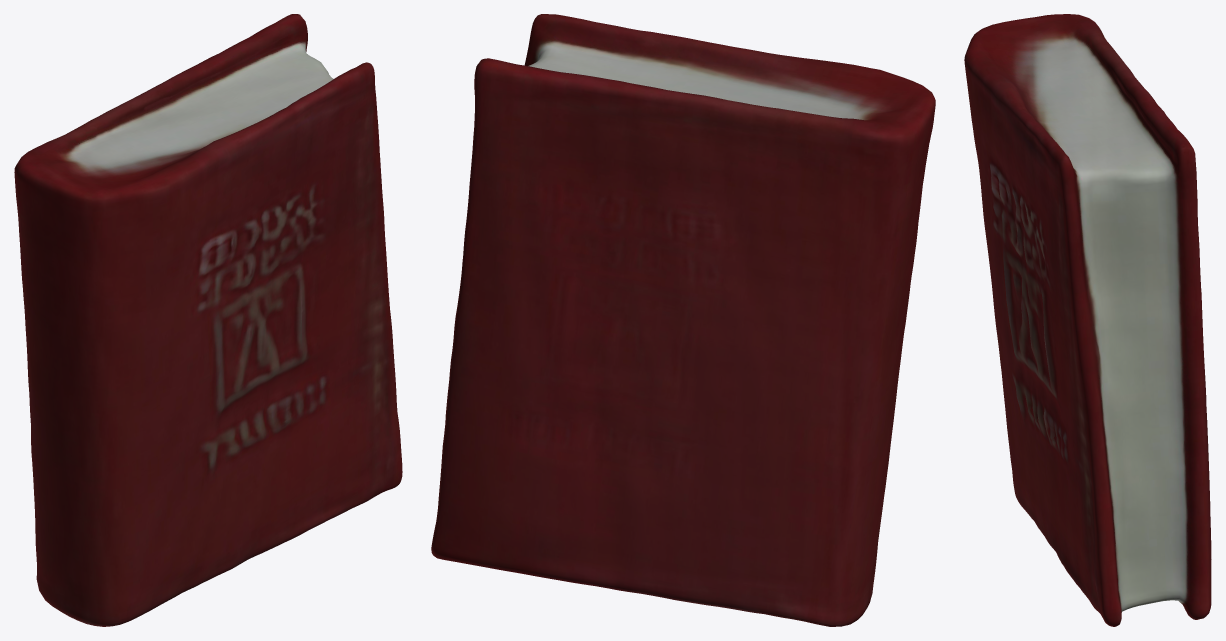
File: afd70ad63f20_Red_book__3d_asset_.fbx
3 renders of one model, left to right at view 1: azimuth 30°, elevation 25°; view 2: azimuth 150°, elevation 25°; view 3: azimuth 270°, elevation 25°, orthographic. The views are drawn at different scales.
Parts seen in each view (by area): view 1: mesh; view 2: mesh; view 3: mesh.
Part boxes in pixels (bbox=[...]): mesh: bbox=[14, 14, 402, 626]; mesh: bbox=[431, 14, 935, 626]; mesh: bbox=[964, 14, 1211, 626].
Bounding box in the file's own units: 86.15 × 99.88 × 46.54.
